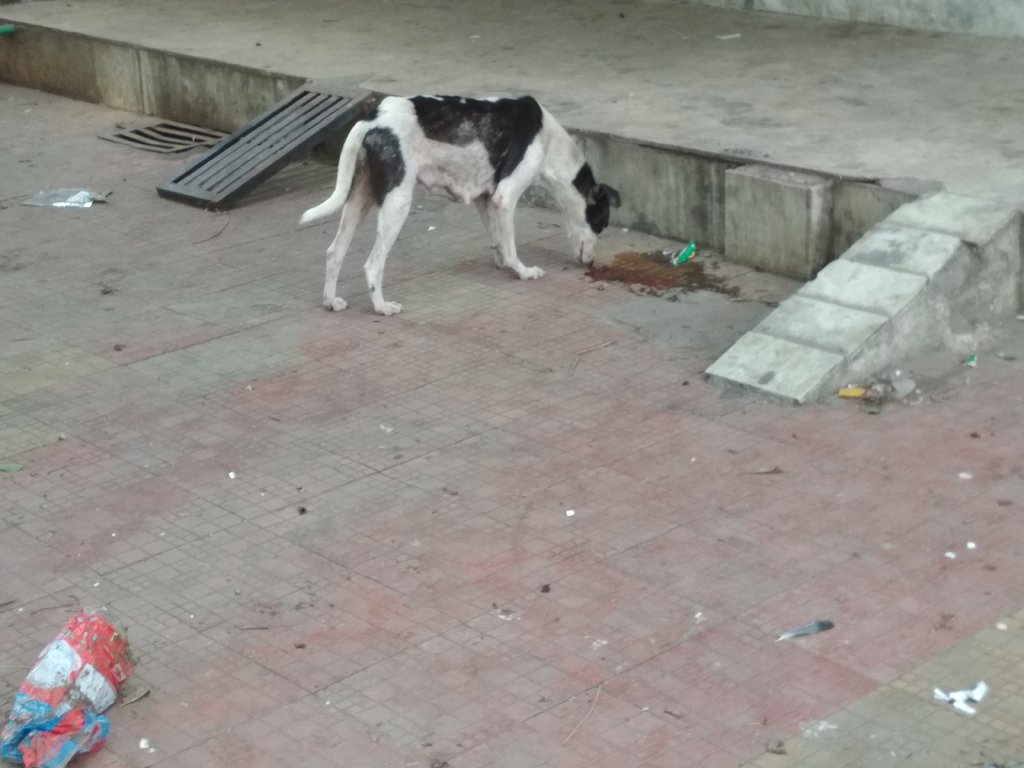dog: (297, 93, 621, 315)
